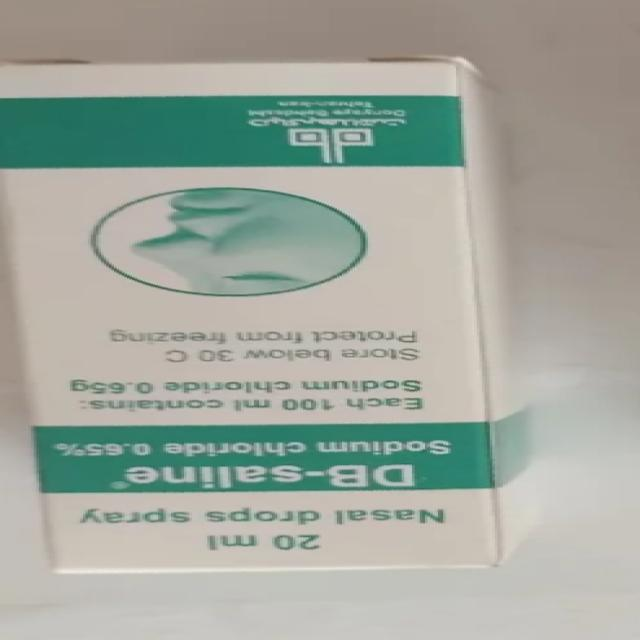drug-name: (110, 462, 416, 488)
